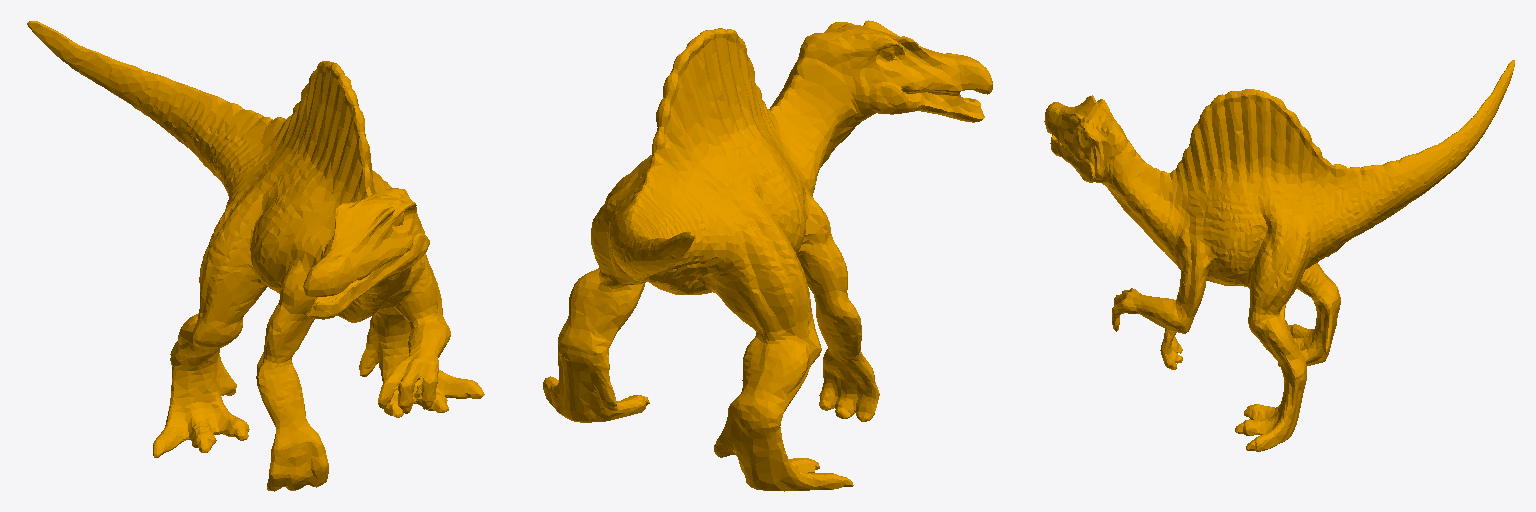
robot.urdf — 3ggttg56:
<?xml version='1.0'?>

<robot name="3ggttg56">
    <static>false</static>
    <link name="link">
        <inertial>
            <mass value="0.07612880162172539"/>
            <inertia ixx="6.35609416188799e-05" ixy="-2.4291828502297126e-06" ixz="1.4443131884071112e-06"
                     iyy="3.654963991814148e-05" iyz="4.927914760356314e-06" izz="5.4410474569445504e-05"/>
        </inertial>
        <collision name="collision">
            <geometry>
                <mesh filename="package://miscnet/train/3ggttg56/collision_model_vhacd.obj"/>
            </geometry>
        </collision>
        <visual name="visual">
            <geometry>
                <mesh filename="package://miscnet/train/3ggttg56/visual_model.obj"/>
            </geometry>
        </visual>
    </link>
</robot>

--- What the picture shows (computed from the rendered views, not written in the file) ---
The picture shows the robot from 3 angles, left to right: view 1: azimuth 30°, elevation 25°; view 2: azimuth 150°, elevation 25°; view 3: azimuth 270°, elevation 25°; orthographic projection.
Model 3ggttg56 with 1 links and 0 joints (none), rooted at link, posed all joints at 0.
Links seen in each view (by area): view 1: link; view 2: link; view 3: link.
Link boxes in pixels (<box>): link: <box>27,21,484,491</box>; link: <box>543,20,992,491</box>; link: <box>1044,60,1514,451</box>.
Bounding box of the posed robot: 0.0865 × 0.1386 × 0.1001 m (x, y, z).
Meshes: 1 distinct files referenced, 1 mesh visuals loaded (1 OBJ).
